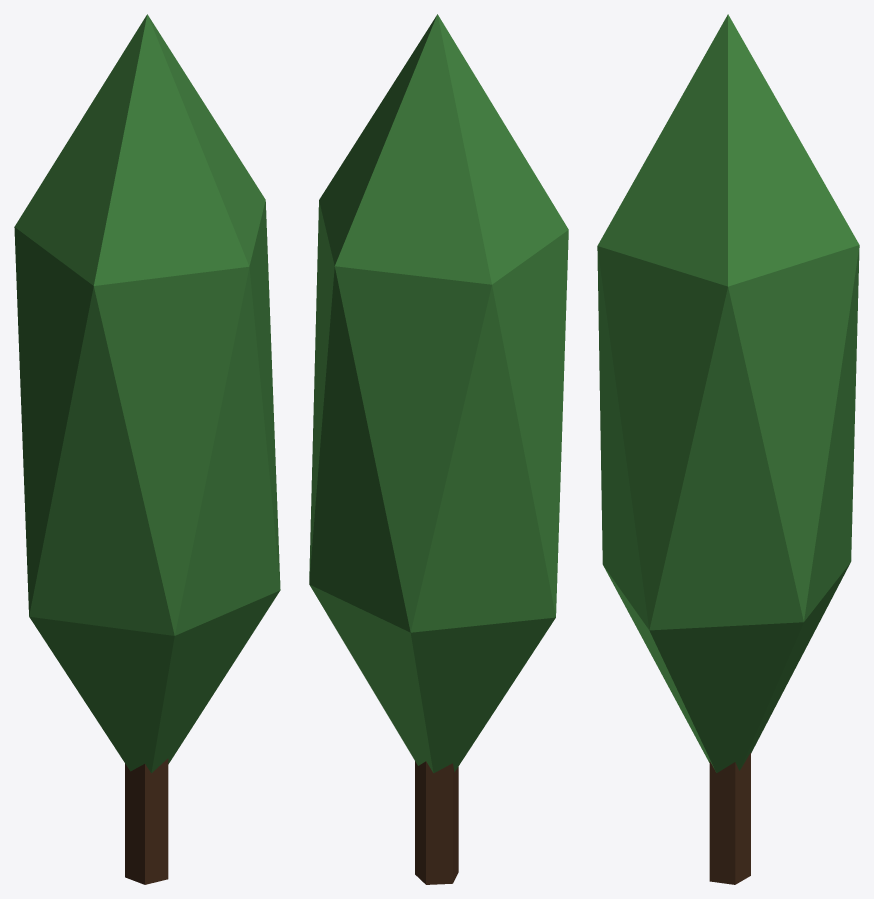
The model's file is poplar.glb.
3 views of the same model, side by side, from view 1: azimuth 30°, elevation 25°; view 2: azimuth 150°, elevation 25°; view 3: azimuth 270°, elevation 25° (orthographic).
Visible parts, largest first — view 1: prop_poplar; view 2: prop_poplar; view 3: prop_poplar.
Boxes of the visible parts, x1,y1,x2,y2 form: prop_poplar: (14,14,280,884); prop_poplar: (309,14,568,884); prop_poplar: (597,14,859,884).
Bounding box in the file's own units: 0.2387 × 0.8301 × 0.2289.
